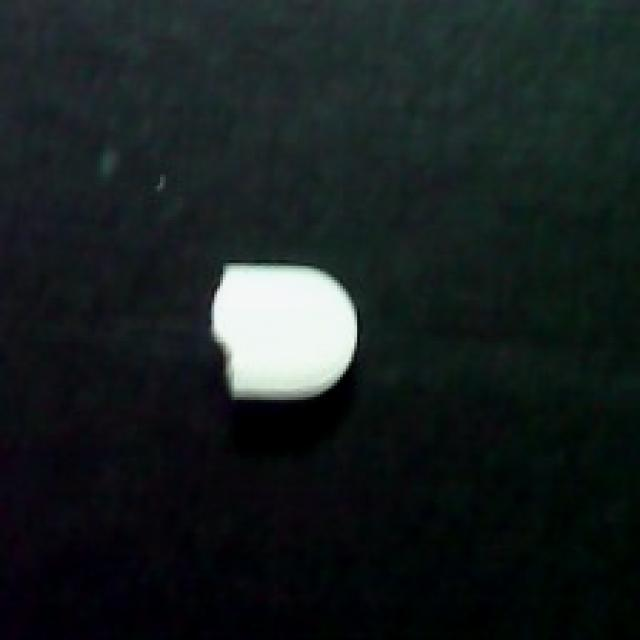defected: (209, 251, 363, 426)
